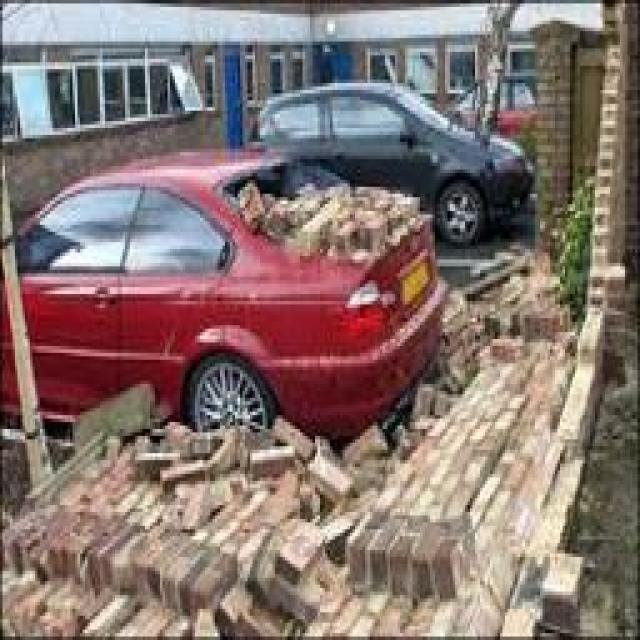replaceable: (219, 164, 426, 253)
